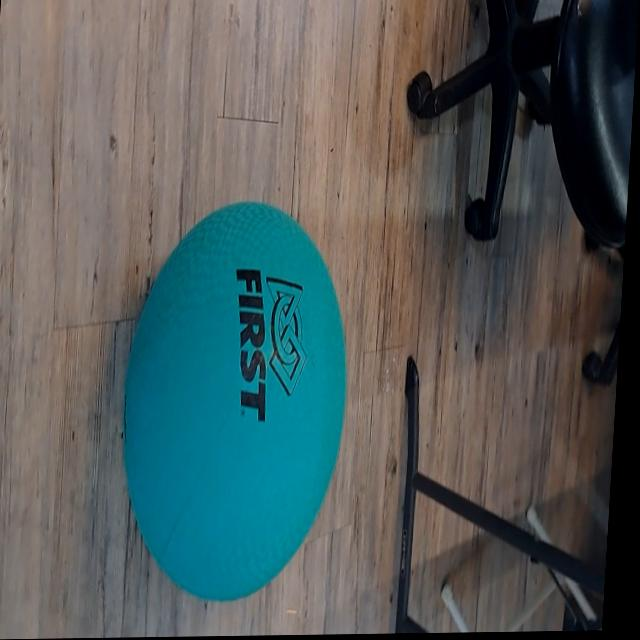ALGAE: (110, 196, 360, 604)
